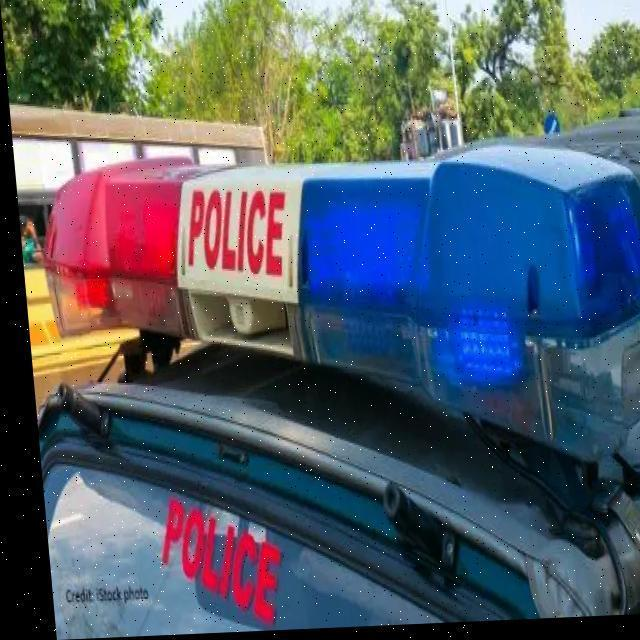Ambulance: (12, 118, 640, 636), (8, 90, 283, 399), (415, 110, 640, 262), (15, 211, 39, 267)
